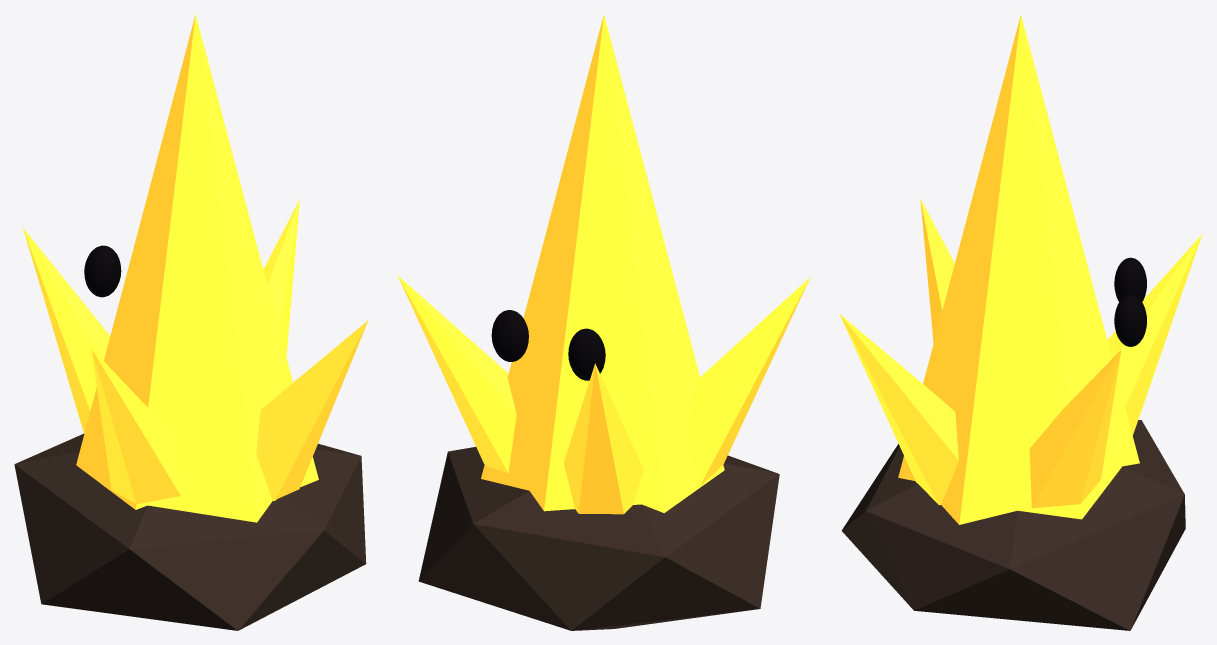
The model's file is splitter.glb.
The picture shows the model from 3 angles, left to right: view 1: azimuth 30°, elevation 25°; view 2: azimuth 150°, elevation 25°; view 3: azimuth 270°, elevation 25°; orthographic projection.
Parts seen in each view (by area): view 1: Body; view 2: Body; view 3: Body.
Boxes of the visible parts, box(x1,y1,x2,y2) form: Body: box(14, 14, 368, 630); Body: box(397, 15, 810, 630); Body: box(839, 15, 1202, 630).
Size of the model in its own units: 0.6633 by 1.22 by 0.6625.
